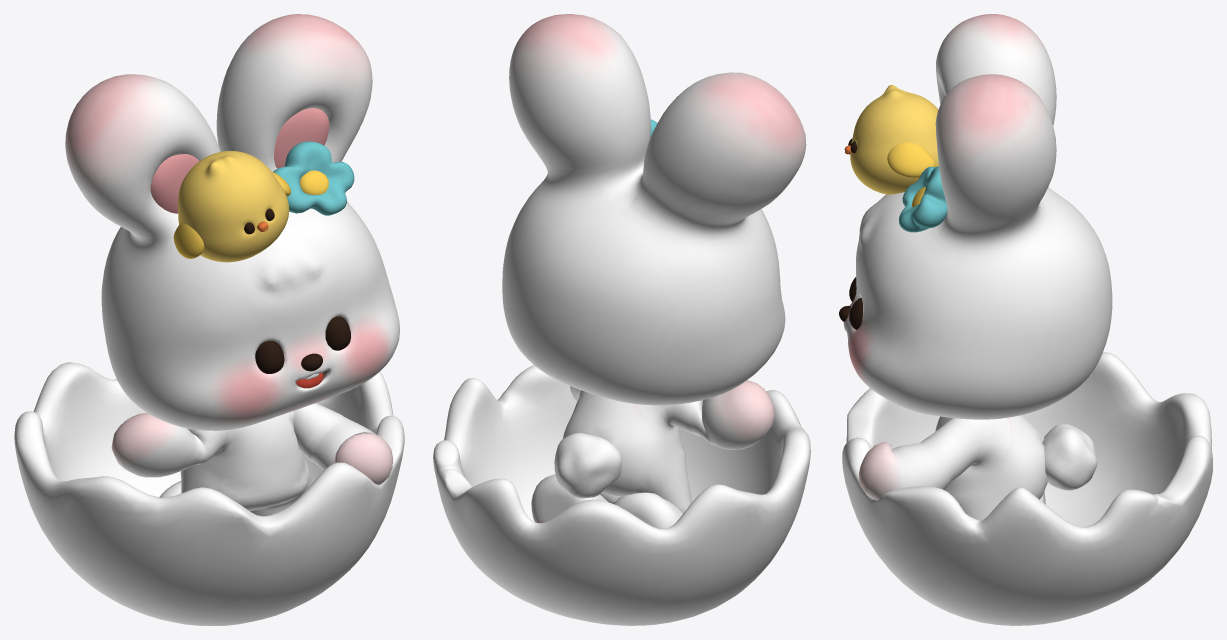
Rendered from pet-model.glb.
The picture shows the model from 3 angles, left to right: view 1: azimuth 30°, elevation 25°; view 2: azimuth 150°, elevation 25°; view 3: azimuth 270°, elevation 25°; orthographic projection. The views are drawn at different scales.
Visible parts, largest first — view 1: rabbit-and-chick-in-egg-col; view 2: rabbit-and-chick-in-egg-col; view 3: rabbit-and-chick-in-egg-col.
Part boxes in pixels (<box>): rabbit-and-chick-in-egg-col: <box>14,14,404,625</box>; rabbit-and-chick-in-egg-col: <box>433,14,810,625</box>; rabbit-and-chick-in-egg-col: <box>839,14,1212,625</box>.
Size of the model in its own units: 1.94 by 3.18 by 1.93.
12 materials, 2 textured.
